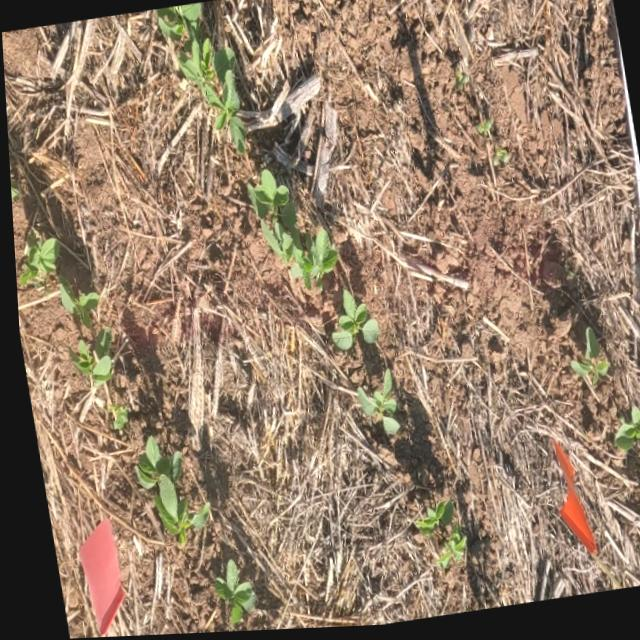soy_plant: (156, 4, 244, 153), (245, 171, 334, 292), (128, 438, 203, 544), (54, 277, 108, 393), (409, 506, 459, 572), (327, 293, 375, 353), (474, 105, 506, 190), (352, 373, 394, 437), (206, 562, 247, 624), (565, 332, 605, 390), (16, 230, 56, 286), (608, 411, 640, 456), (102, 403, 122, 430)
